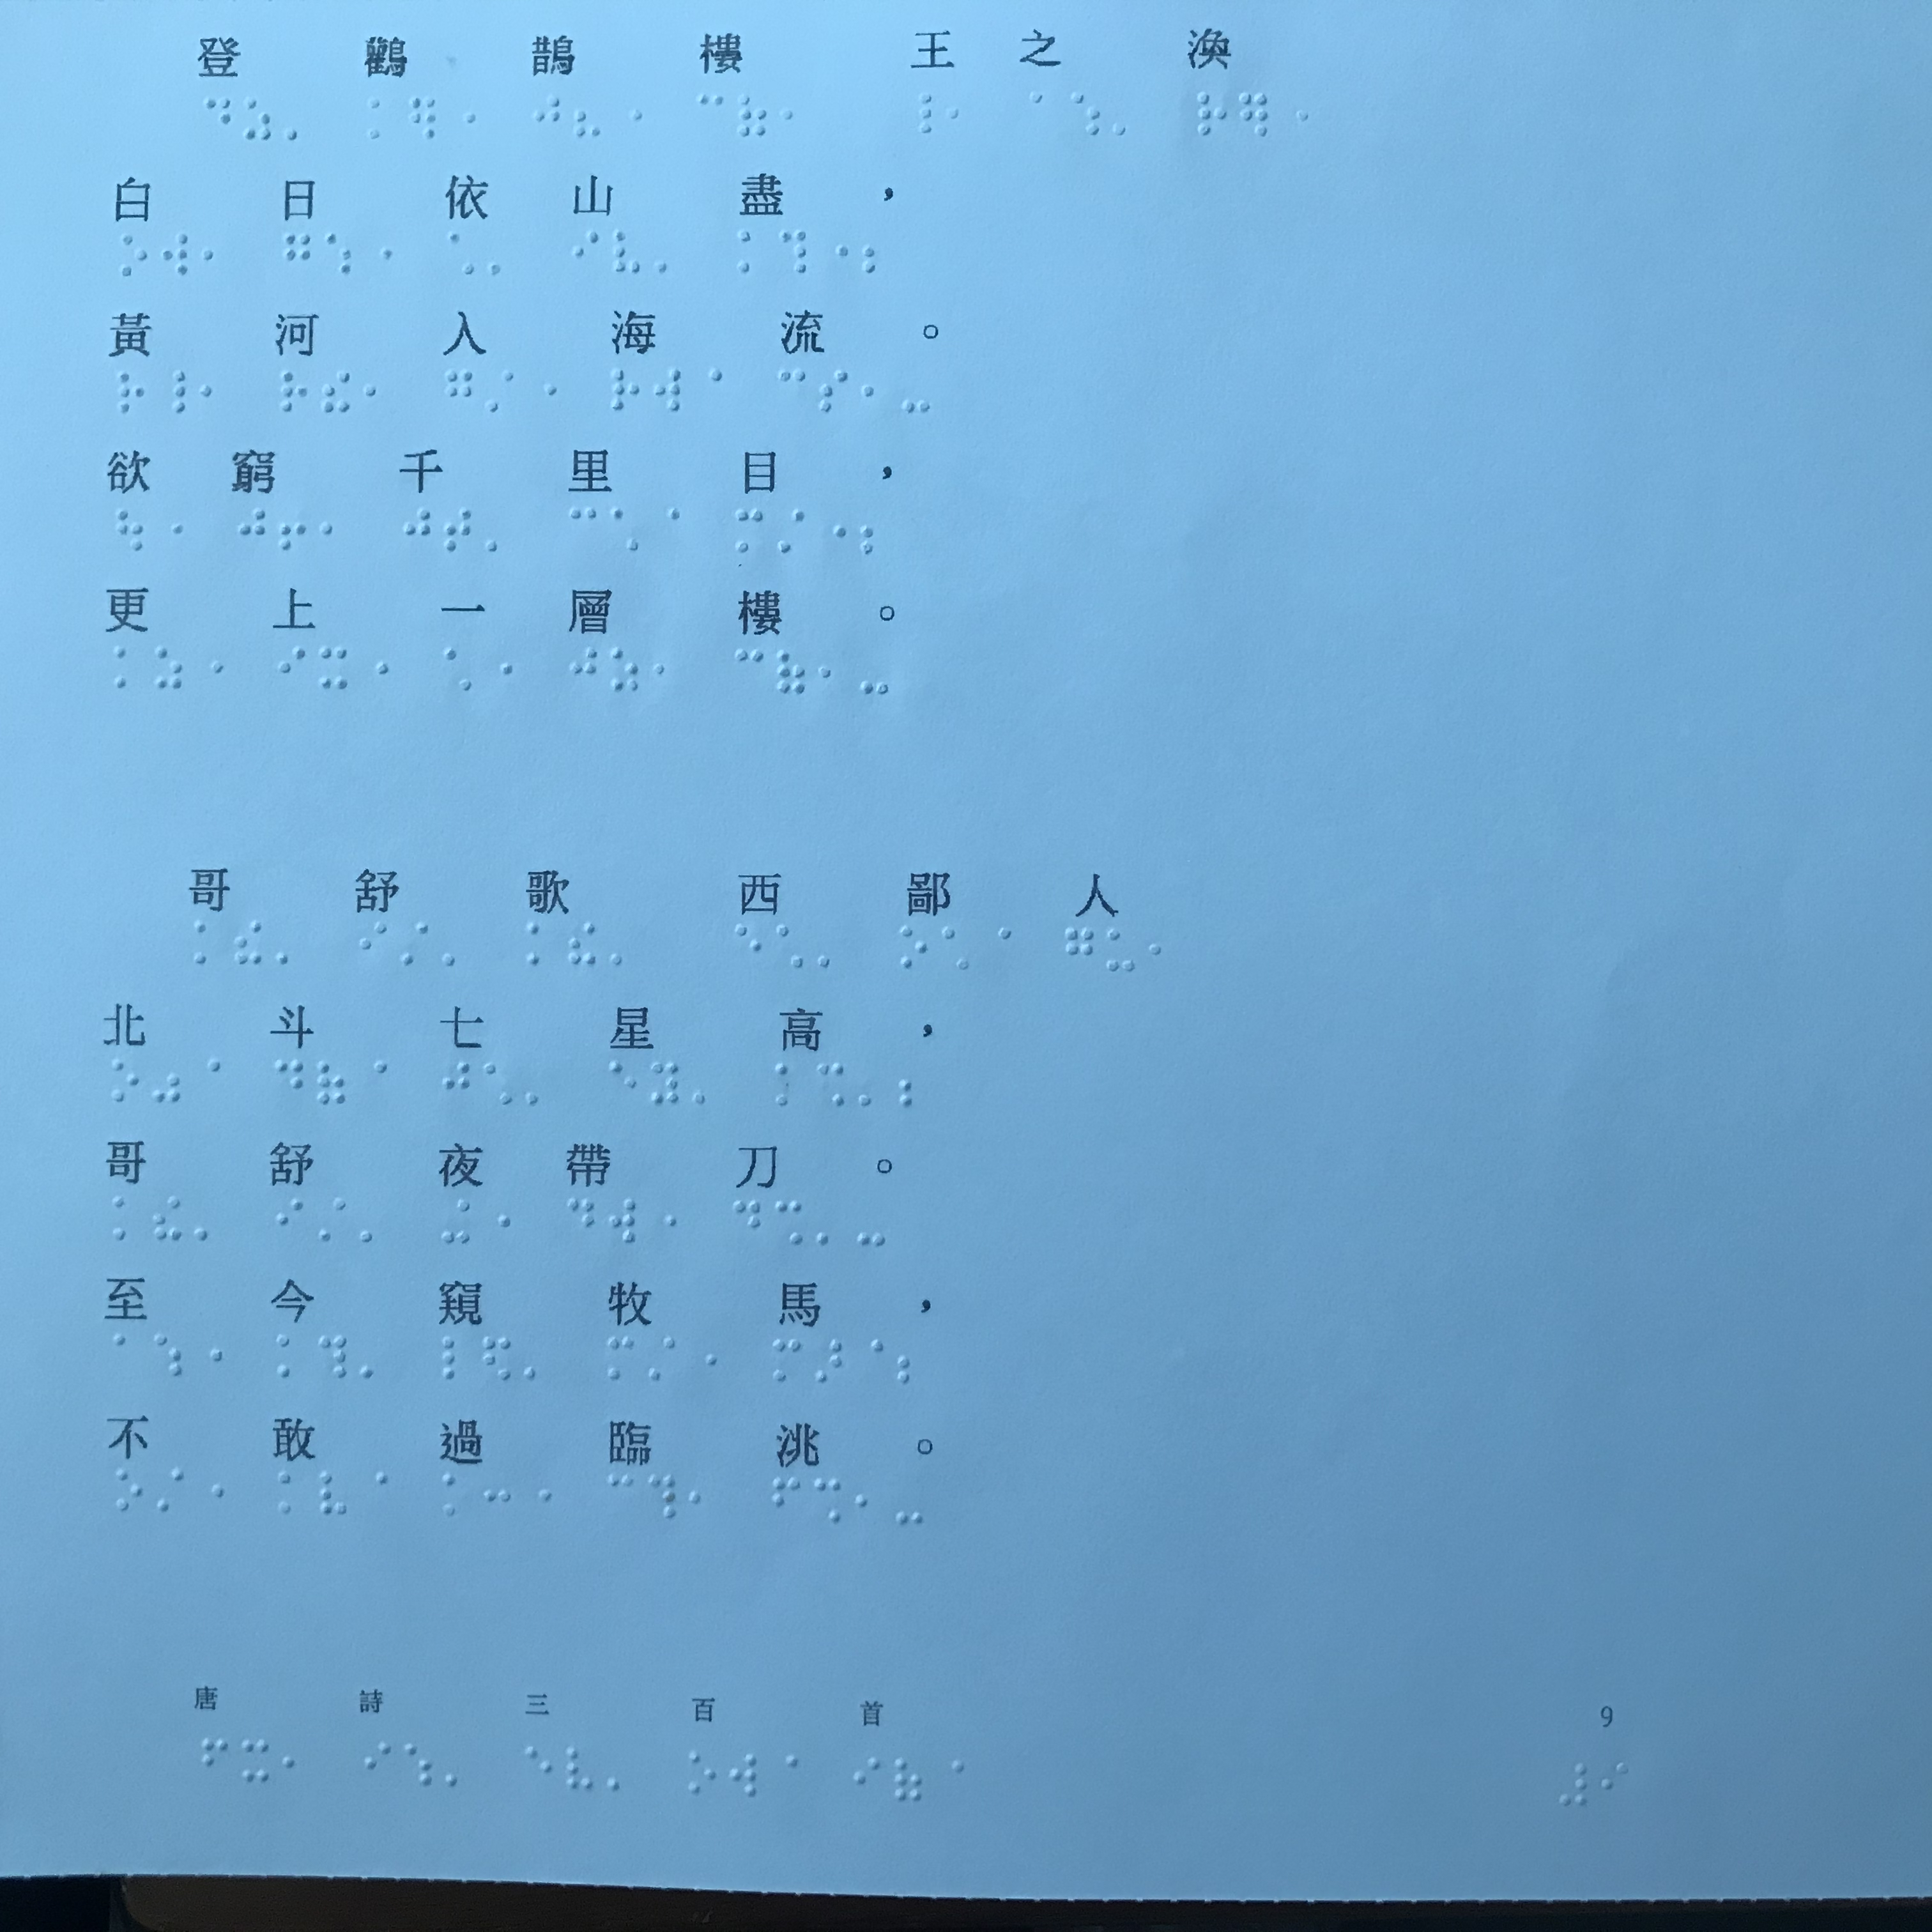Braille: (483, 363, 517, 421), (862, 225, 895, 281), (320, 364, 354, 421), (856, 1196, 890, 1253), (683, 1748, 718, 1801), (156, 364, 188, 423), (895, 1334, 931, 1385), (157, 228, 191, 281), (892, 1750, 925, 1803), (778, 223, 809, 281), (607, 364, 642, 414), (324, 228, 356, 283), (609, 87, 642, 138), (736, 228, 770, 280), (117, 368, 150, 419), (152, 642, 186, 694), (441, 646, 474, 697), (272, 1058, 306, 1109), (479, 1332, 513, 1384), (934, 1753, 968, 1805), (817, 225, 847, 281), (895, 1477, 925, 1534), (1237, 87, 1269, 140), (281, 228, 313, 281), (442, 368, 474, 421), (188, 1056, 219, 1109), (812, 1336, 844, 1389), (814, 1476, 846, 1529), (646, 1336, 679, 1385), (1070, 83, 1100, 138), (612, 225, 642, 280), (860, 508, 890, 563), (607, 1192, 637, 1247), (899, 364, 931, 416), (113, 506, 145, 557), (646, 501, 679, 548), (603, 1336, 637, 1384), (1277, 87, 1307, 140), (363, 230, 393, 283), (607, 646, 637, 699), (731, 1198, 761, 1251), (771, 1472, 801, 1525), (405, 1737, 435, 1790), (694, 87, 725, 136), (653, 364, 685, 414), (817, 364, 849, 414), (773, 1201, 805, 1251), (198, 368, 226, 423), (571, 88, 602, 140), (280, 368, 310, 419), (734, 506, 764, 557), (359, 642, 389, 694), (483, 1062, 513, 1113), (152, 1192, 182, 1244), (359, 1196, 389, 1247), (444, 1196, 474, 1247), (481, 1196, 511, 1247), (646, 1196, 676, 1247), (522, 1474, 552, 1525), (1559, 1759, 1589, 1810), (315, 1196, 347, 1244), (152, 1056, 180, 1109), (364, 92, 395, 142), (1196, 87, 1226, 136), (156, 504, 186, 554), (315, 508, 345, 557), (276, 642, 306, 692), (899, 920, 929, 970), (943, 924, 973, 973), (152, 1332, 182, 1382), (193, 1330, 223, 1380), (770, 1750, 800, 1799), (568, 922, 600, 968), (1598, 1759, 1629, 1805), (740, 88, 768, 140), (945, 87, 973, 138), (487, 230, 515, 281), (573, 225, 602, 276), (364, 368, 393, 419), (529, 370, 557, 421), (694, 363, 722, 414), (609, 1058, 637, 1109), (274, 1332, 303, 1384), (202, 1732, 230, 1783), (856, 1746, 885, 1798), (904, 90, 934, 138), (446, 230, 476, 278), (775, 366, 805, 414), (276, 506, 306, 554), (568, 504, 598, 552), (775, 649, 805, 697), (1063, 925, 1093, 973), (1104, 927, 1134, 975), (154, 1465, 184, 1513), (357, 1470, 387, 1518), (524, 1744, 554, 1792), (1033, 83, 1060, 136), (320, 1467, 347, 1520), (780, 508, 809, 557), (320, 644, 349, 694), (570, 646, 598, 695), (860, 651, 888, 701), (318, 1058, 347, 1108), (817, 1062, 846, 1111), (651, 1063, 681, 1109), (775, 1062, 805, 1108), (651, 1474, 681, 1520), (120, 232, 147, 283), (202, 232, 228, 283), (483, 508, 510, 559), (487, 646, 513, 697), (736, 924, 763, 975), (110, 1056, 136, 1108), (812, 1200, 839, 1251), (242, 1736, 269, 1787), (366, 1736, 393, 1787), (731, 1750, 757, 1801), (446, 502, 471, 557), (855, 1474, 879, 1529), (777, 92, 805, 140), (359, 920, 387, 968), (357, 1056, 386, 1104), (320, 1334, 349, 1382), (522, 1334, 550, 1382), (278, 1739, 306, 1787), (195, 1468, 225, 1513), (246, 90, 271, 143), (1115, 87, 1139, 140), (655, 226, 679, 280), (405, 504, 432, 554), (819, 508, 844, 561), (237, 916, 264, 966), (856, 1062, 883, 1111), (690, 1336, 717, 1385), (278, 1468, 304, 1518), (568, 1743, 593, 1796), (448, 92, 476, 138), (400, 920, 428, 966), (276, 1196, 304, 1242), (862, 363, 886, 414), (897, 1060, 922, 1111), (690, 1470, 715, 1522), (409, 92, 435, 140), (239, 508, 265, 556), (612, 504, 639, 552), (113, 644, 140, 692), (198, 642, 225, 690), (984, 925, 1010, 973), (568, 1196, 594, 1244), (775, 1338, 801, 1385), (858, 1338, 885, 1385), (609, 924, 637, 968), (283, 92, 308, 142), (778, 925, 803, 975), (444, 1058, 469, 1108), (117, 1467, 142, 1516), (485, 1474, 510, 1523), (534, 90, 561, 136), (736, 646, 763, 692), (805, 651, 832, 697), (439, 924, 465, 970), (1139, 925, 1162, 978), (195, 1196, 221, 1242), (441, 1336, 467, 1382), (448, 1744, 472, 1792), (642, 646, 665, 697), (113, 1332, 140, 1376), (207, 92, 232, 138), (527, 922, 552, 968), (522, 1063, 547, 1109), (356, 1338, 382, 1380), (195, 918, 218, 966), (113, 1192, 136, 1240), (446, 1470, 469, 1518), (610, 1474, 635, 1518), (814, 925, 837, 971), (692, 1063, 715, 1109), (278, 922, 301, 966), (607, 1748, 628, 1794)
